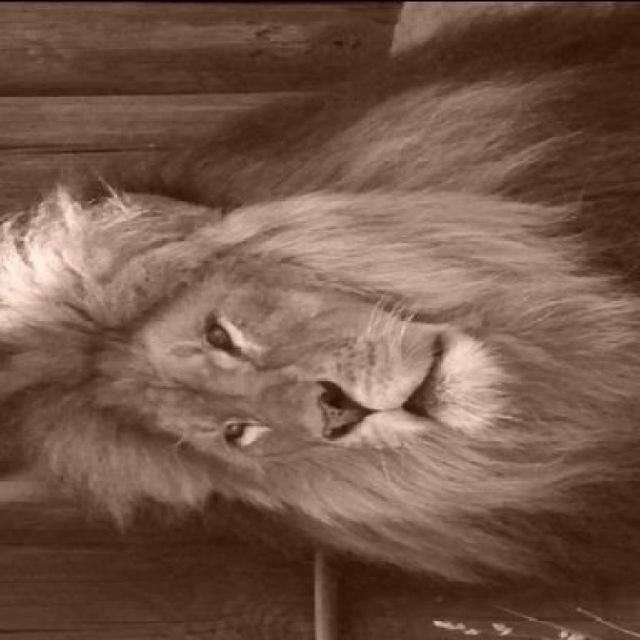Lion: (11, 52, 638, 611)
